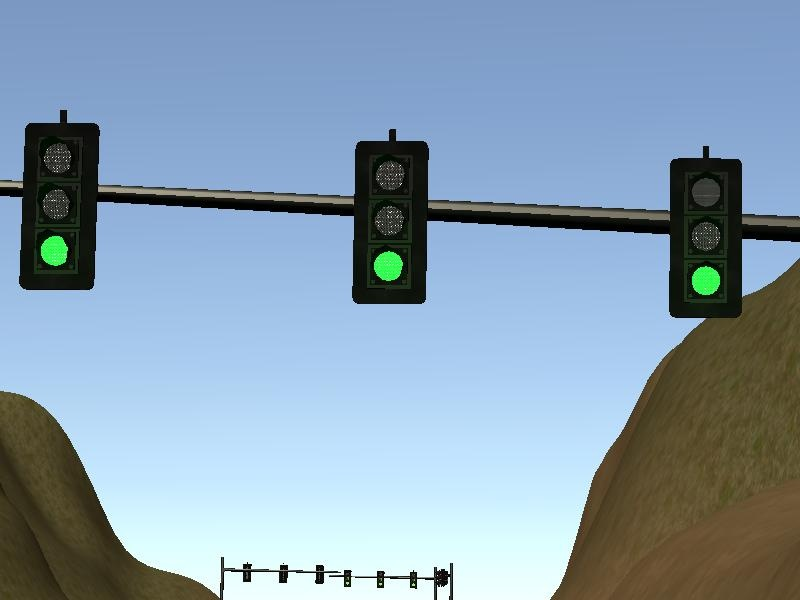GREEN: (18, 122, 97, 291), (353, 141, 428, 306), (669, 158, 743, 319)
